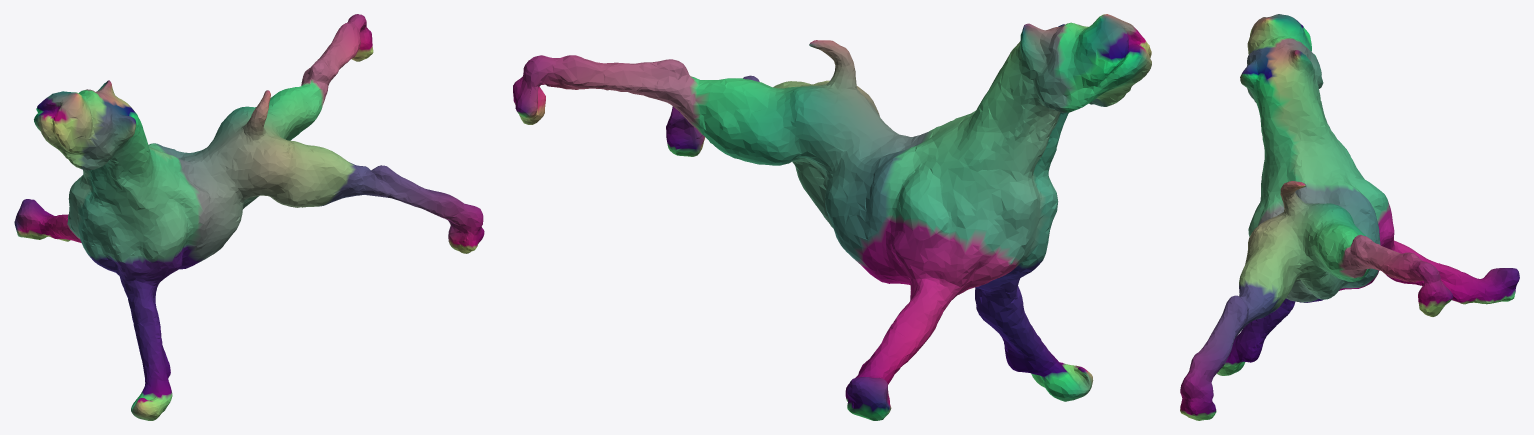
Rendered from dog1-17.off.obj.
3 views of the same model, side by side, from view 1: azimuth 30°, elevation 25°; view 2: azimuth 150°, elevation 25°; view 3: azimuth 270°, elevation 25° (orthographic). The views are drawn at different scales.
Bounding box in the file's own units: 1.43 × 1.08 × 1.
